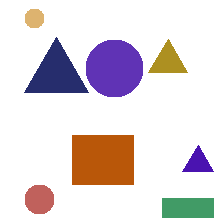circle: (86, 40, 142, 96), (25, 185, 53, 213), (25, 9, 43, 27)
rectangle: (72, 135, 133, 184), (162, 198, 213, 217)
triangle: (24, 37, 88, 92), (148, 39, 187, 72), (182, 145, 213, 171)
